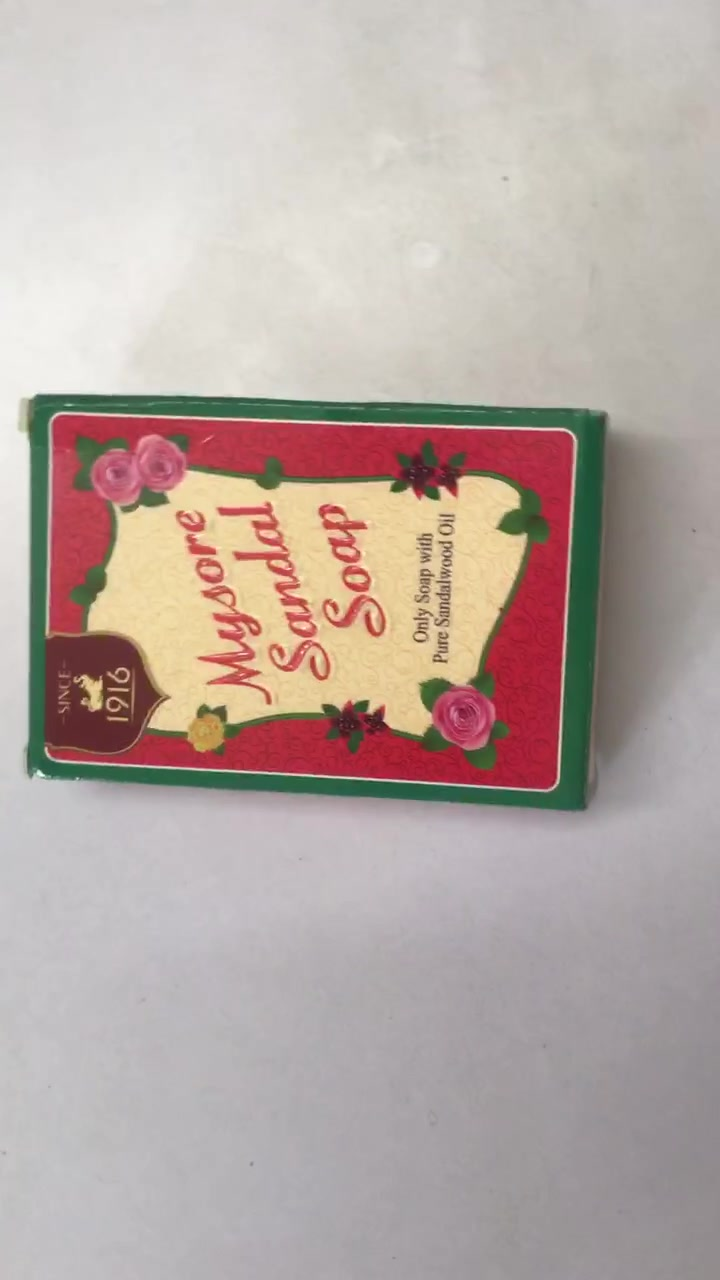mysore sandal soap: (20, 396, 598, 802)
